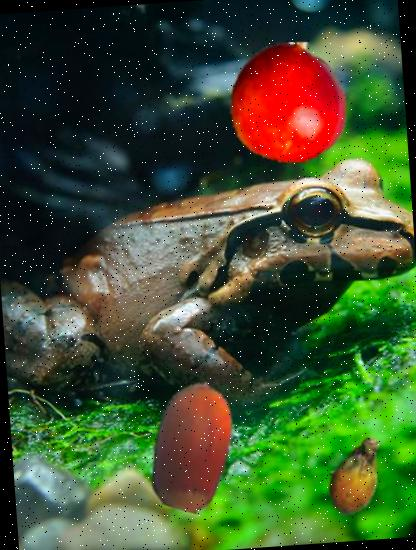Cactus: (315, 432, 401, 518)
Hazelnut: (122, 375, 260, 514)
Nectarine: (223, 38, 351, 166)
